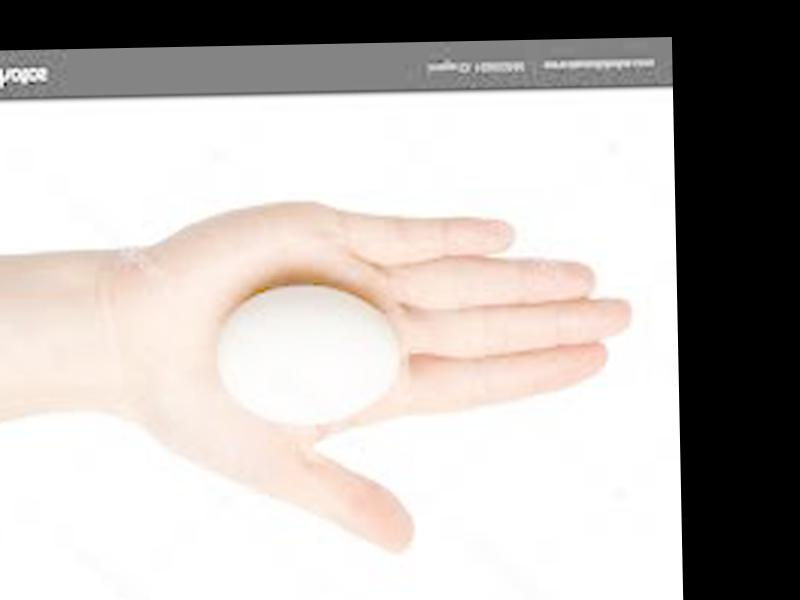Eggs: (216, 290, 401, 422)
